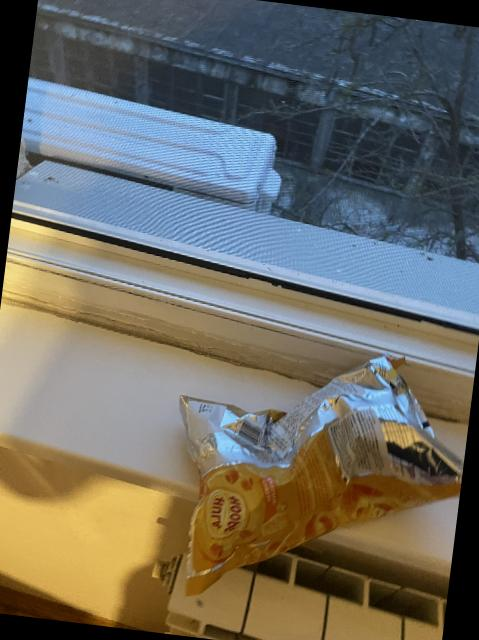Chio Hula Hoops Cheese 70g: (158, 335, 475, 630)
